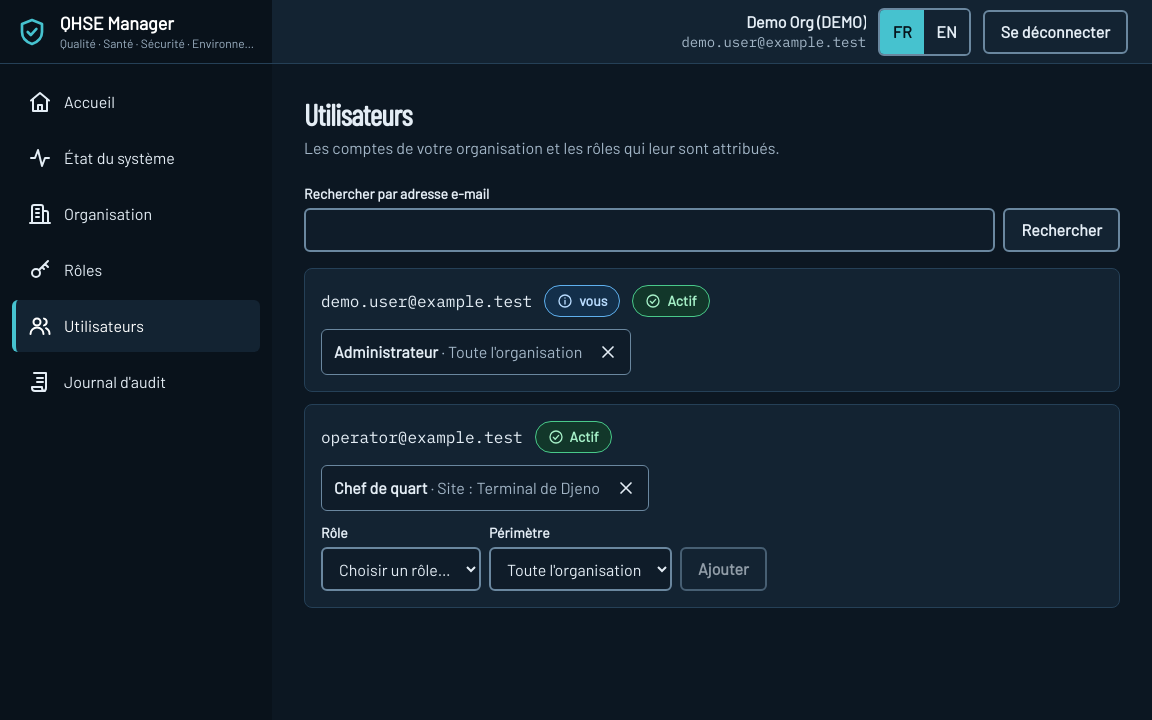
Test: users › explains why the last administrator cannot lose the role
This screenshot has width=1152, height=720.
Click the button named "Retirer à demo.user@example.test le rôle Administrateur (Tou".
click(608, 352)  # box [586,330,630,374]
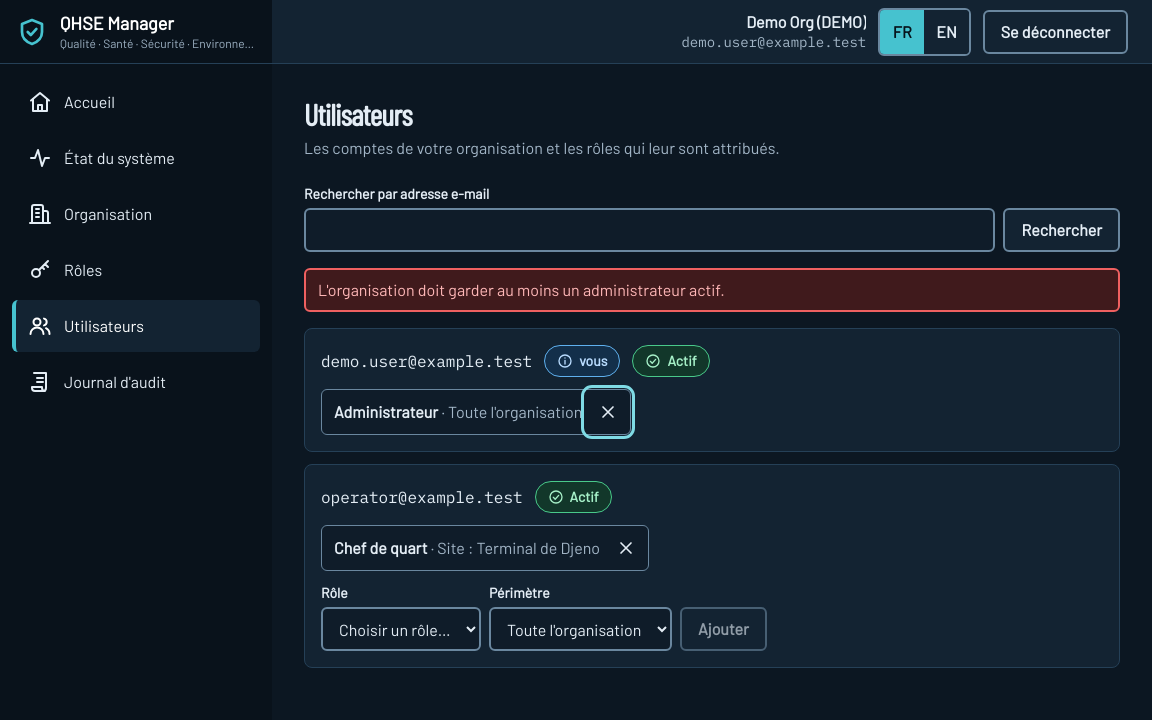
expect the text "L'organisation doit garder au moins un administrateur actif." is shown: met, box [304,268,1120,312]
